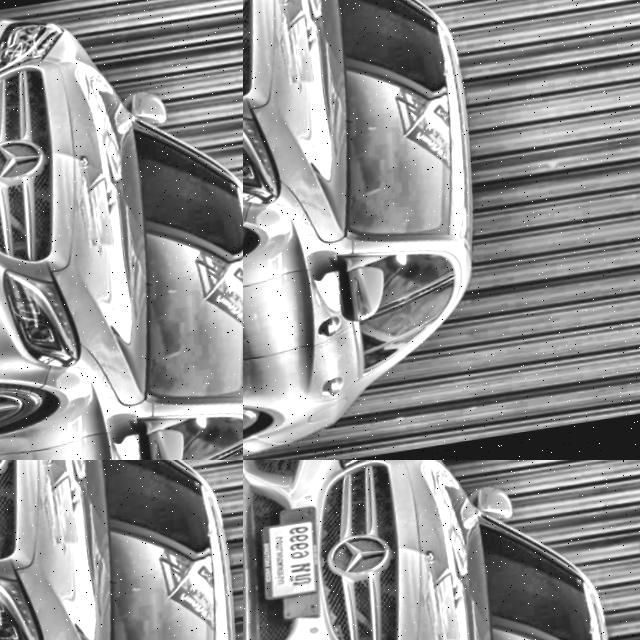license-plate: (54, 231, 166, 363), (256, 516, 330, 602), (619, 276, 640, 419)
